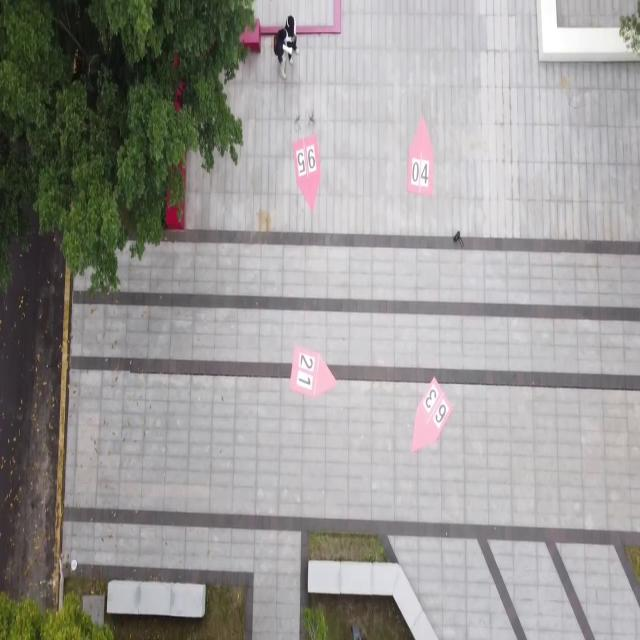-sign-: (410, 376, 454, 454), (288, 344, 336, 399), (407, 115, 435, 198), (293, 132, 321, 212)
